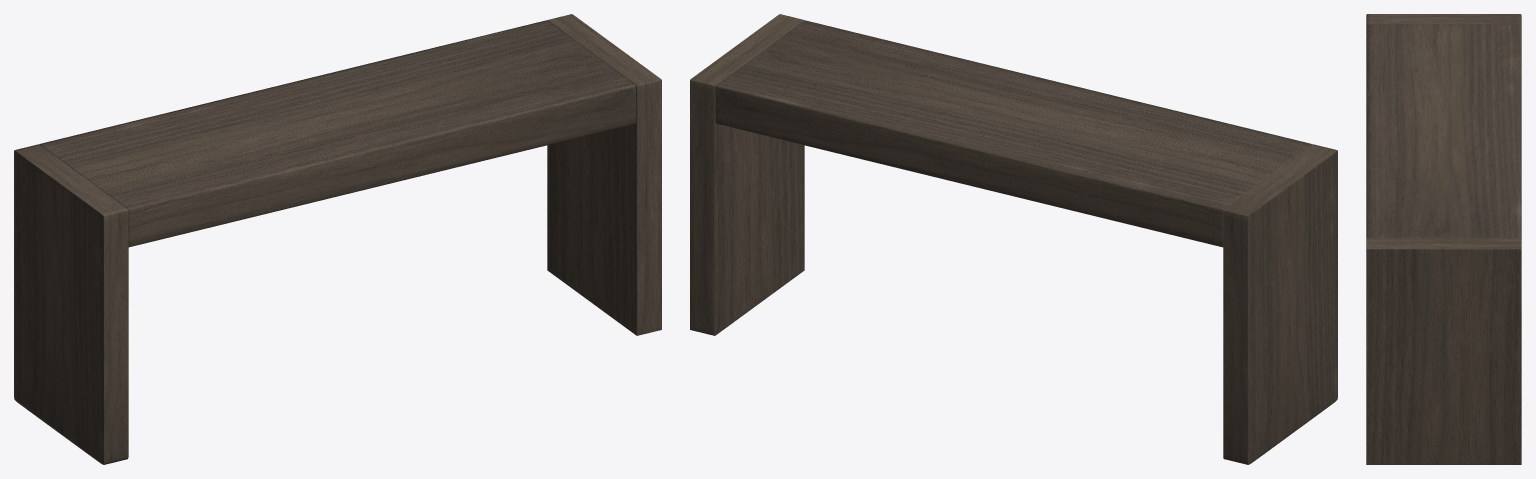
Rendered from mesajar.fbx.
3 renders of one model, left to right at view 1: azimuth 30°, elevation 25°; view 2: azimuth 150°, elevation 25°; view 3: azimuth 270°, elevation 25°, orthographic. The views are drawn at different scales.
Visible parts, largest first — view 1: Desc; view 2: Desc; view 3: Desc.
Part boxes in pixels (left/top/right/bottom): Desc: left=14, top=14, right=661, bottom=464; Desc: left=690, top=14, right=1337, bottom=464; Desc: left=1366, top=14, right=1521, bottom=464.
Size of the model in its own units: 166 by 71.17 by 46.28.
1 material, 1 textured.
